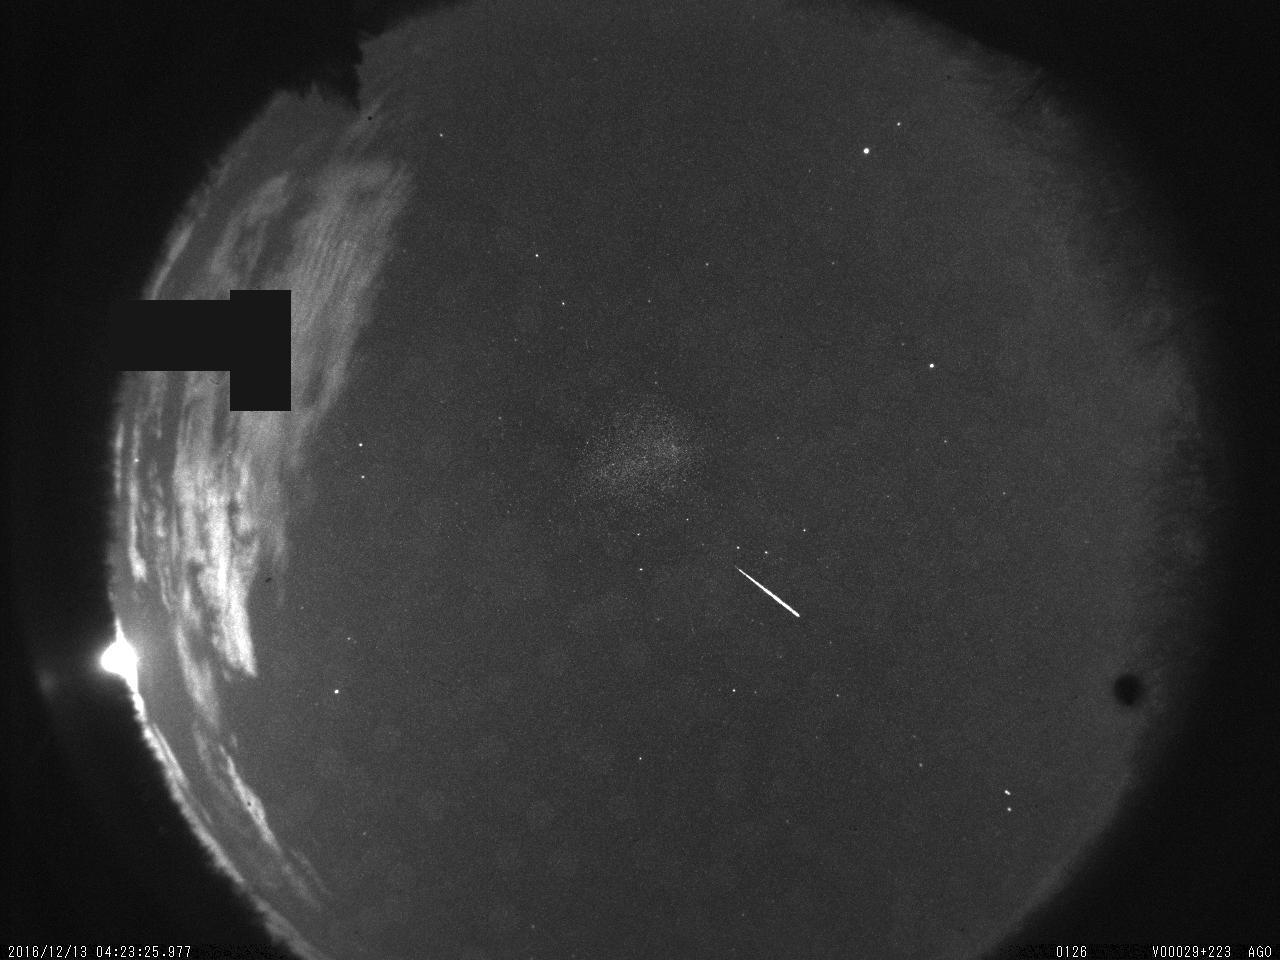Meteor: (735, 562, 802, 617)
